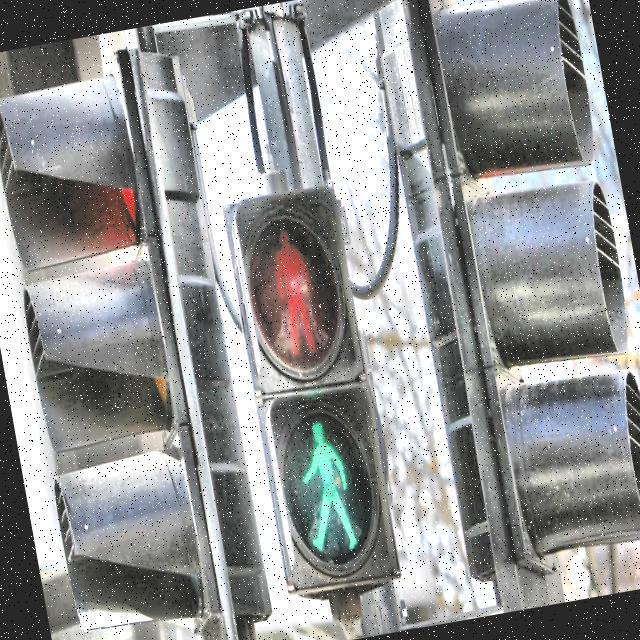green_light: (287, 412, 362, 560)
